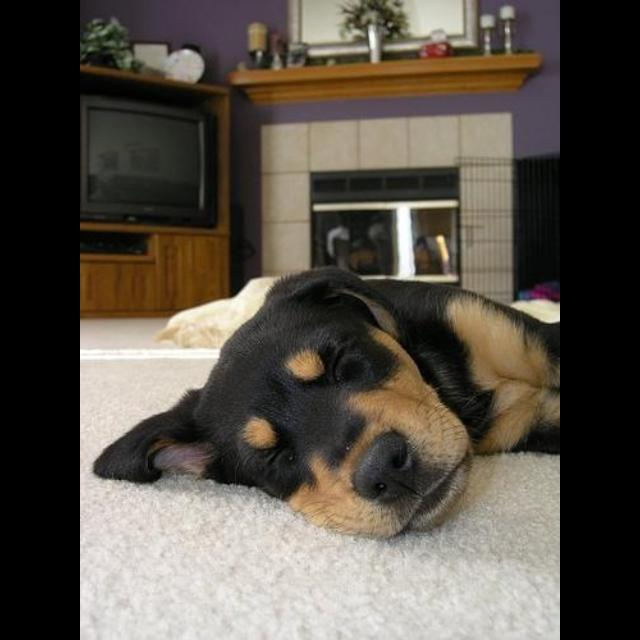rottweiler: (93, 265, 560, 541)
